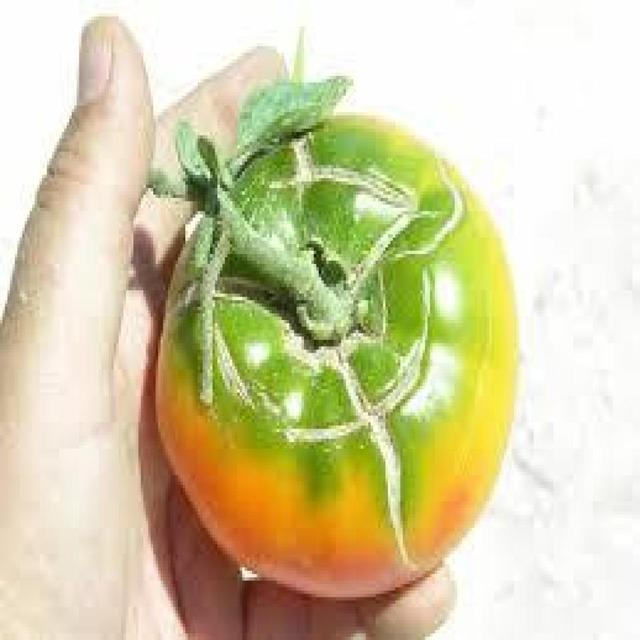Cracking Fruit: (80, 102, 252, 299)
